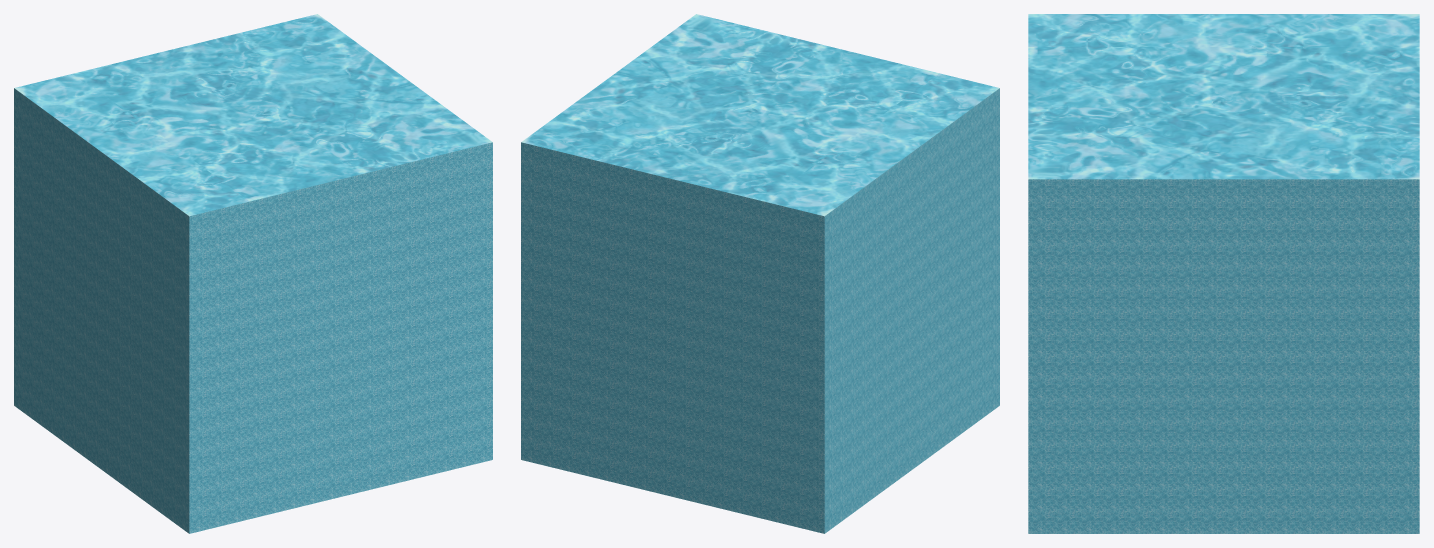
Rendered from WaterWaveCube.fbx.
The picture shows the model from 3 angles, left to right: view 1: azimuth 30°, elevation 25°; view 2: azimuth 150°, elevation 25°; view 3: azimuth 270°, elevation 25°; orthographic projection. The views are drawn at different scales.
Visible parts, largest first — view 1: Cube; view 2: Cube; view 3: Cube.
Part boxes in pixels (x1,y1,x2,y2): Cube: (14,14,492,533); Cube: (521,14,999,533); Cube: (1028,14,1419,533).
Bounding box in the file's own units: 200 × 200 × 200.
1 material, 1 textured.
